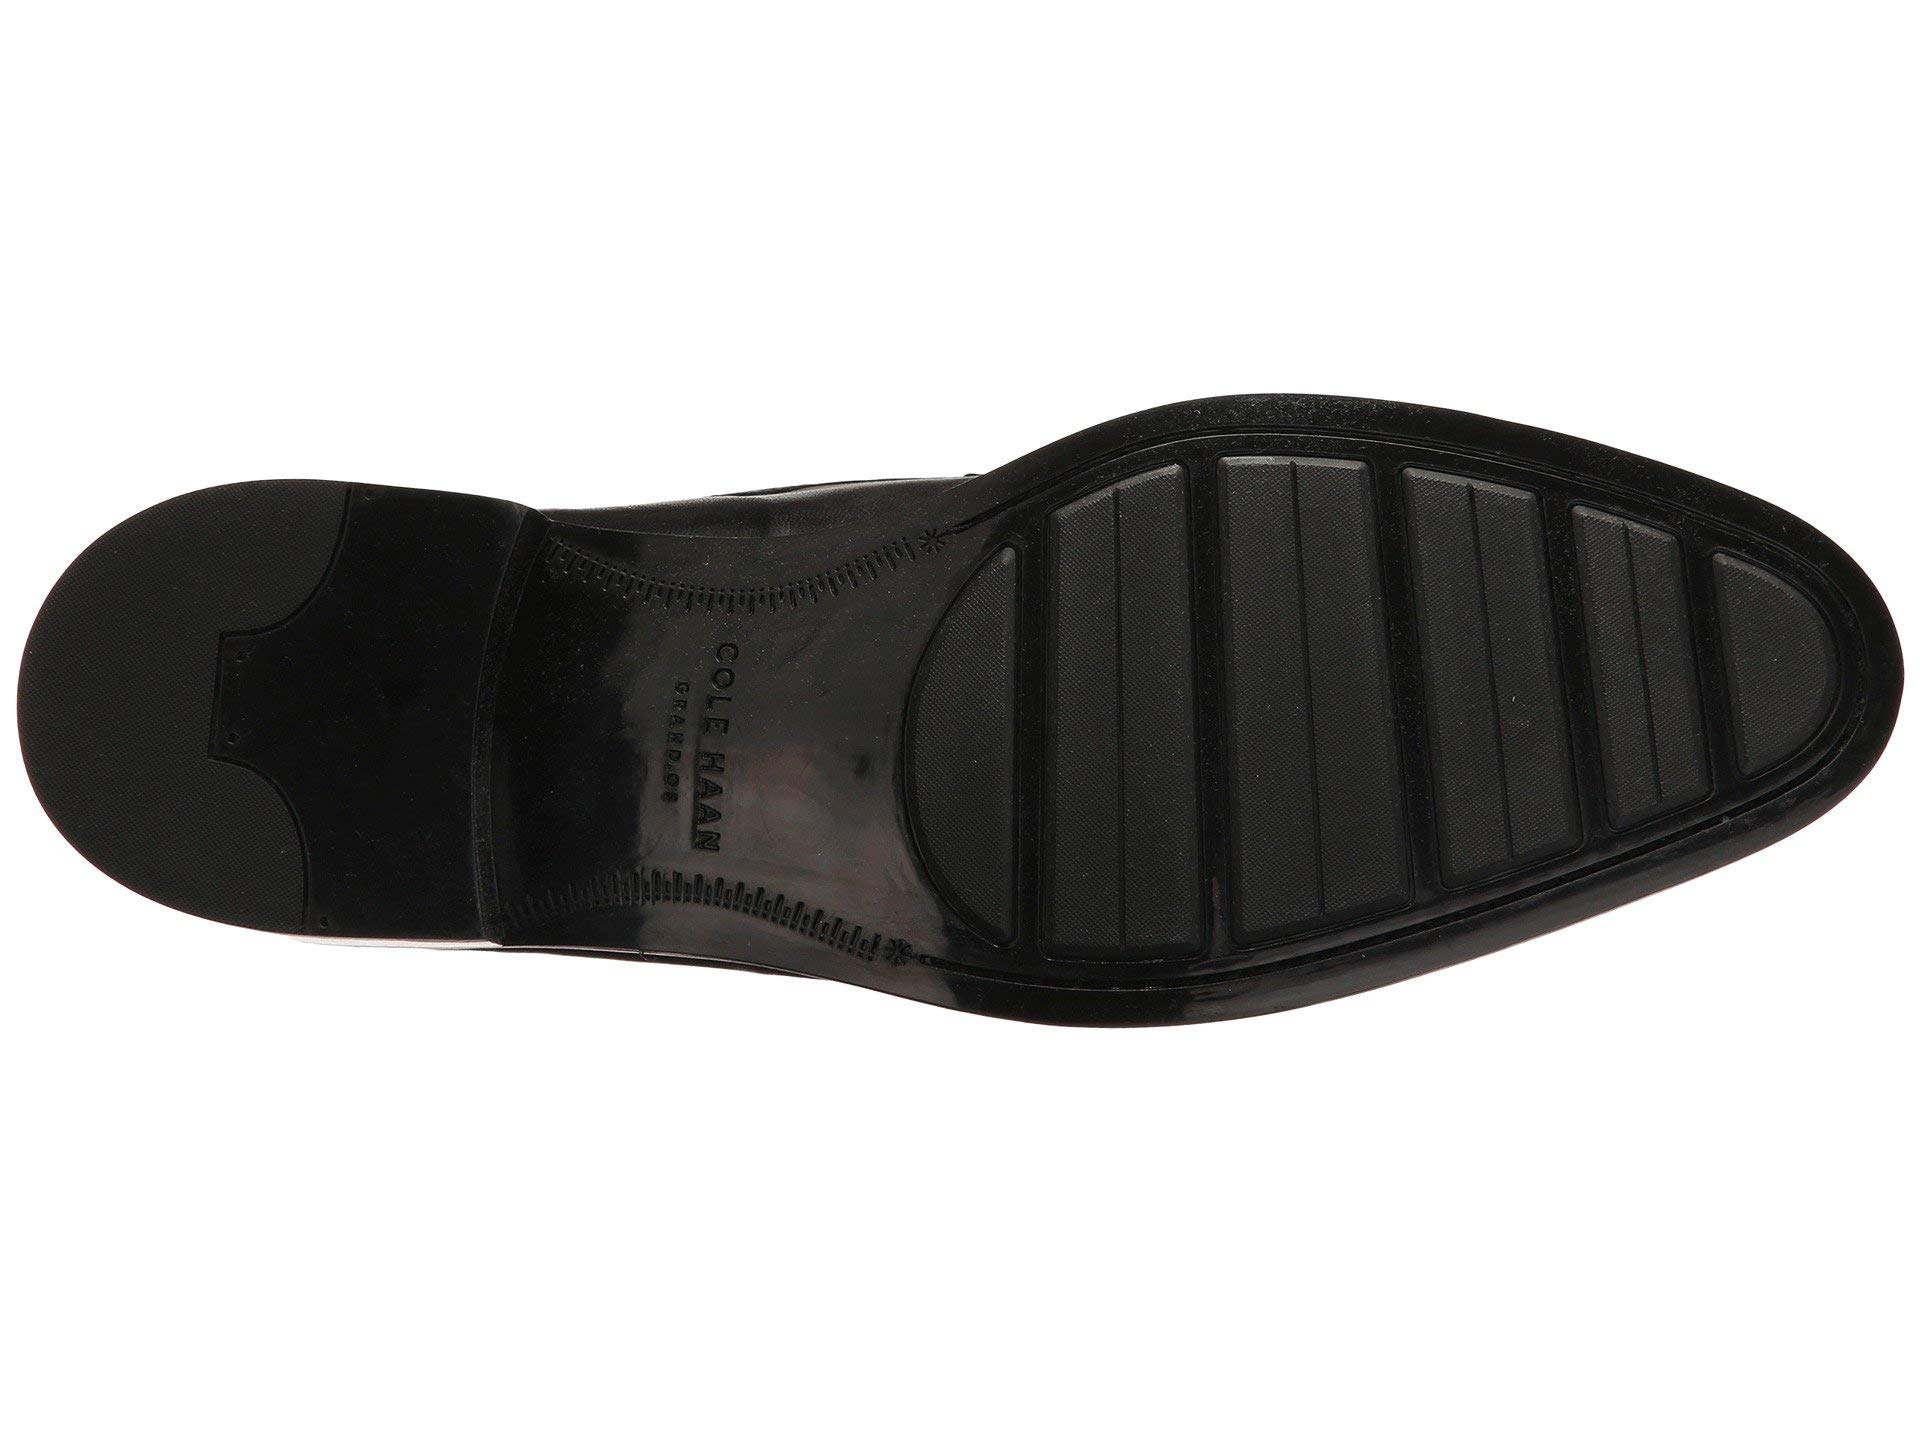circle: (615, 616, 776, 867), (195, 604, 304, 805)
line: (1081, 451, 1541, 914), (615, 616, 776, 867), (779, 877, 990, 998), (195, 604, 304, 805)
quad: (1081, 451, 1541, 914), (779, 877, 990, 998)
star: (779, 877, 990, 998)
text: (615, 616, 776, 867)
